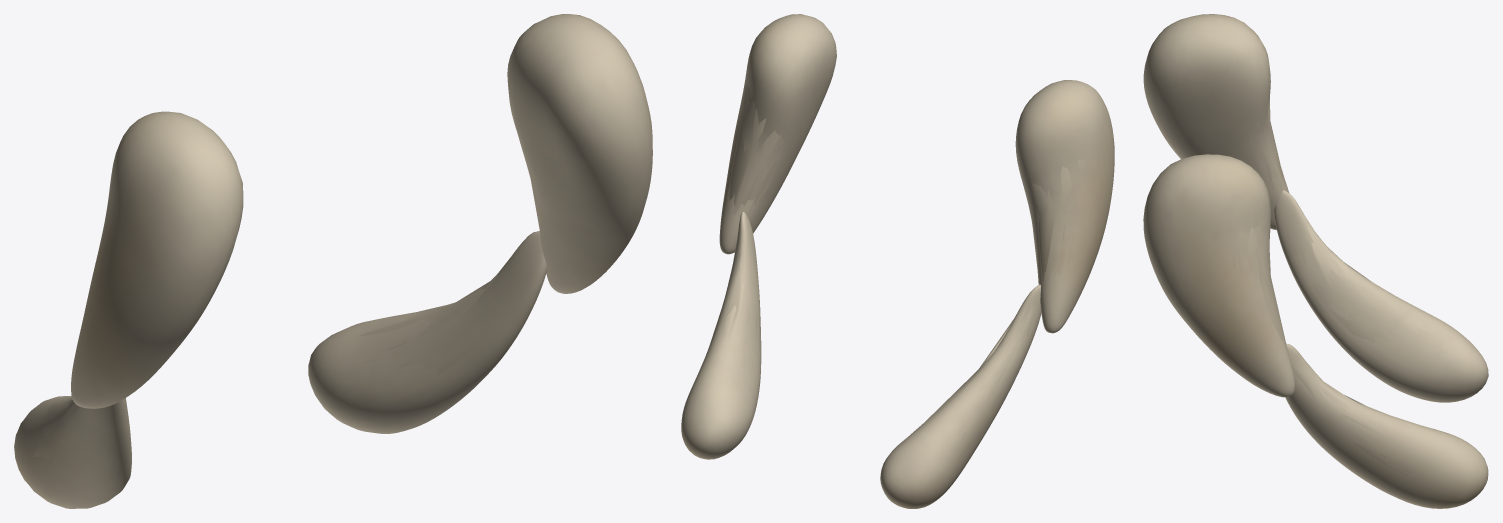
File: Teeth Canini.fbx
The picture shows the model from 3 angles, left to right: view 1: azimuth 30°, elevation 25°; view 2: azimuth 150°, elevation 25°; view 3: azimuth 270°, elevation 25°; orthographic projection. The views are drawn at different scales.
Visible parts, largest first — view 1: Teeth Canini high, Teeth Canini, Teeth Canini low; view 2: Teeth Canini high, Teeth Canini, Teeth Canini low; view 3: Teeth Canini high, Teeth Canini, Teeth Canini low.
Boxes of the visible parts, x1,y1,x2,y2 form: Teeth Canini high: (14, 14, 652, 508); Teeth Canini: (33, 175, 547, 464); Teeth Canini low: (40, 183, 539, 437); Teeth Canini high: (681, 14, 1114, 508); Teeth Canini: (707, 78, 1086, 461); Teeth Canini low: (709, 83, 1072, 436); Teeth Canini high: (1143, 14, 1488, 508); Teeth Canini: (1232, 113, 1421, 476); Teeth Canini low: (1247, 98, 1431, 457).
Size of the model in its own units: 7.93 by 7.3 by 6.25.
